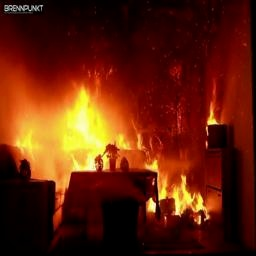fire: (3, 30, 235, 225)
